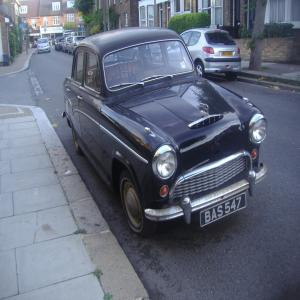Vehicle-registration-plate: (201, 192, 248, 229), (222, 52, 234, 57)
